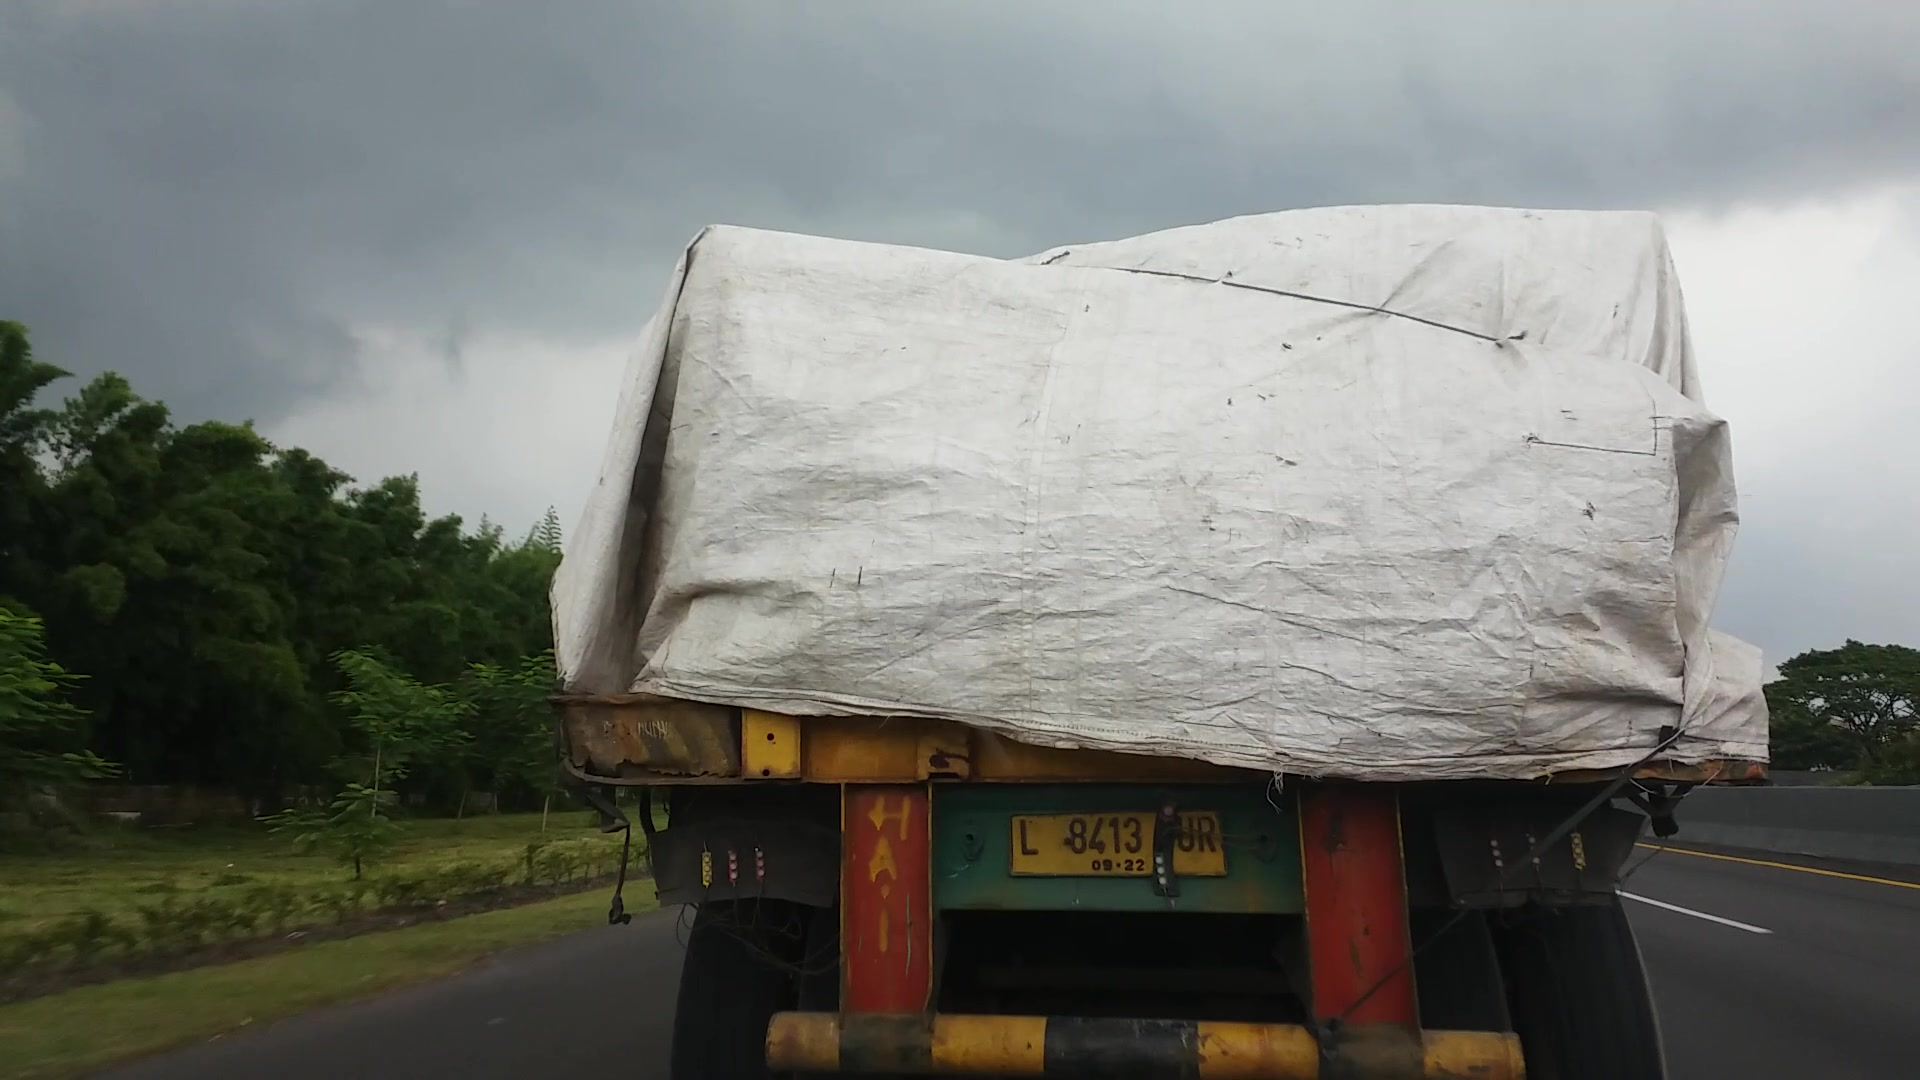plate_positive: (1011, 810, 1226, 876)
